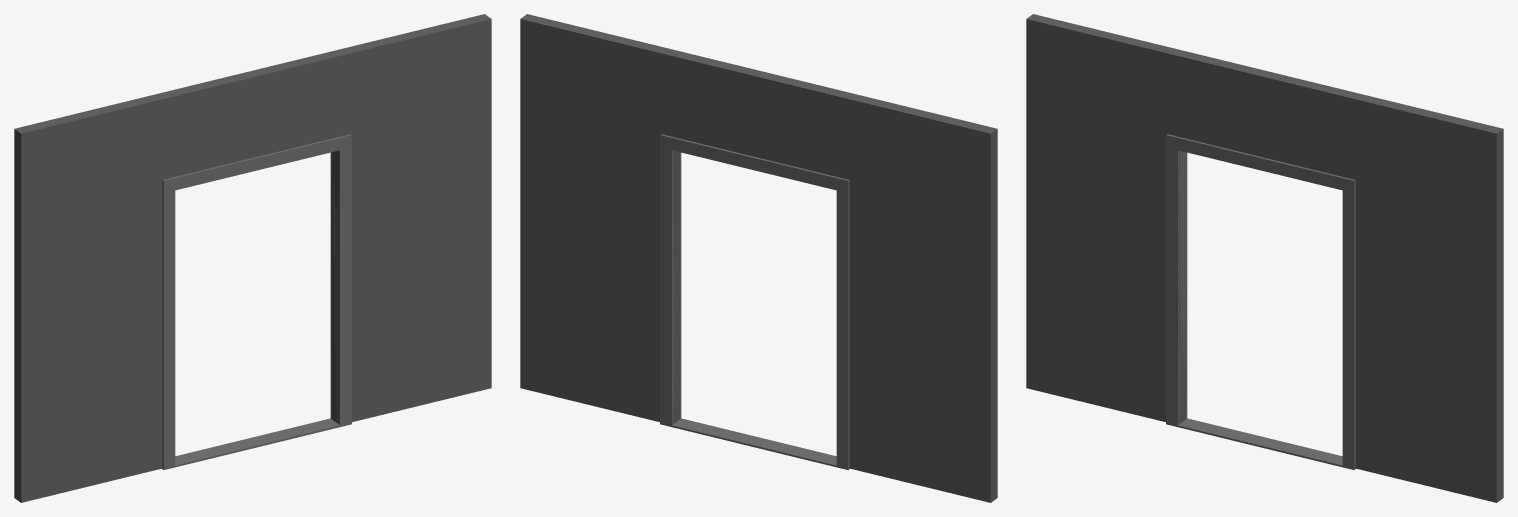
The model's file is SM_Env_Wall_Elevator_4m.fbx.
3 views of the same model, side by side, from view 1: azimuth 30°, elevation 25°; view 2: azimuth 150°, elevation 25°; view 3: azimuth 330°, elevation 25° (orthographic).
Visible parts, largest first — view 1: SM_Env_Wall_Elevator_4m; view 2: SM_Env_Wall_Elevator_4m; view 3: SM_Env_Wall_Elevator_4m.
Boxes of the visible parts, box(x1,y1,x2,y2) form: SM_Env_Wall_Elevator_4m: box(14, 14, 491, 502); SM_Env_Wall_Elevator_4m: box(520, 14, 997, 502); SM_Env_Wall_Elevator_4m: box(1026, 14, 1503, 502).
Size of the model in its own units: 4 by 3.01 by 0.14.
